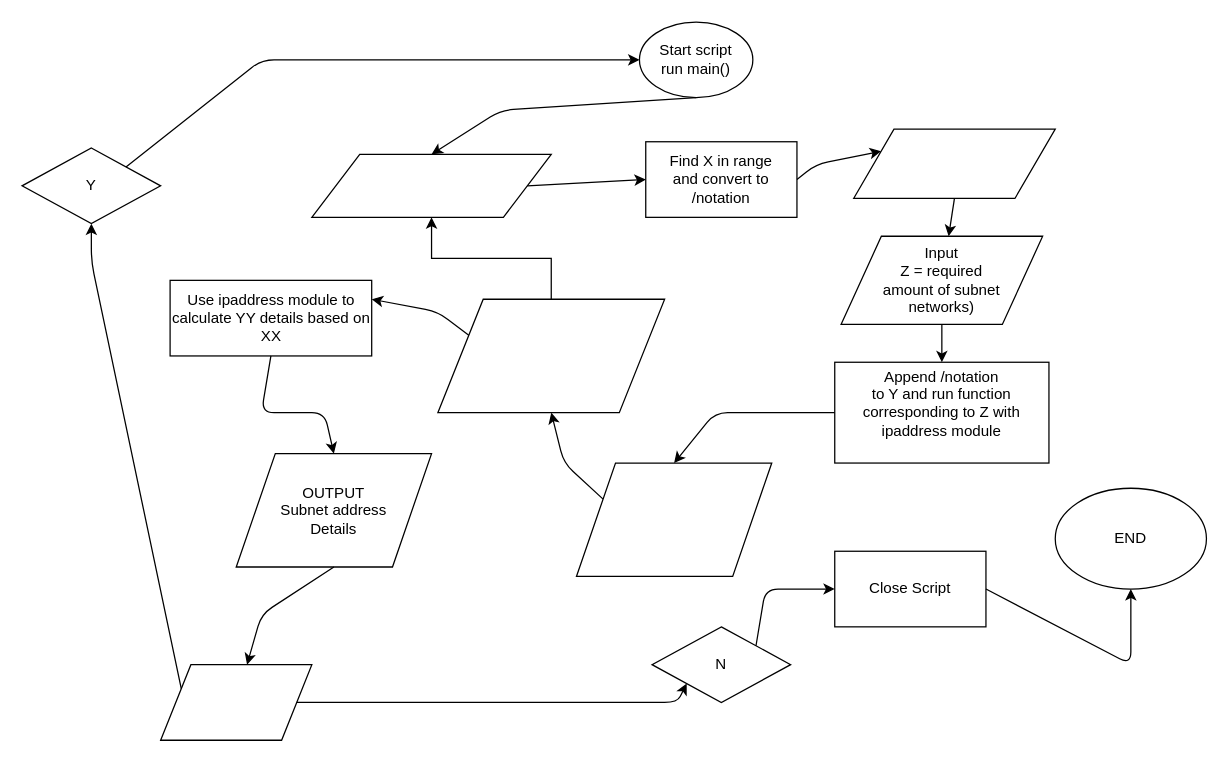
This 1229x762 diagram has some shape labels left out. The shapes that lost their labels are listed below. From the top down, each one's centre as x and y in pixels, then its label:
pixel 953 163: Input Y= network address)
pixel 431 185: Input X = Summary Network) Requirements
pixel 551 355: INPUT XX = required hosts for *YY = subnets in Z
pixel 673 519: OUTPUT Summary address Details
pixel 235 701: Input Run again? y/n -
